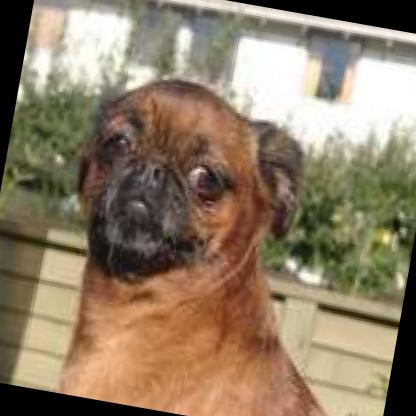Brabancon_griffon: (27, 53, 403, 416)
